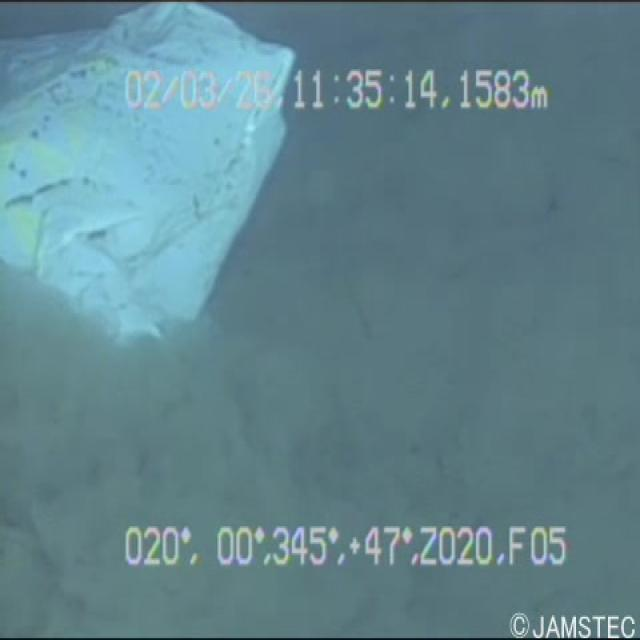plastic: (0, 0, 308, 366)
